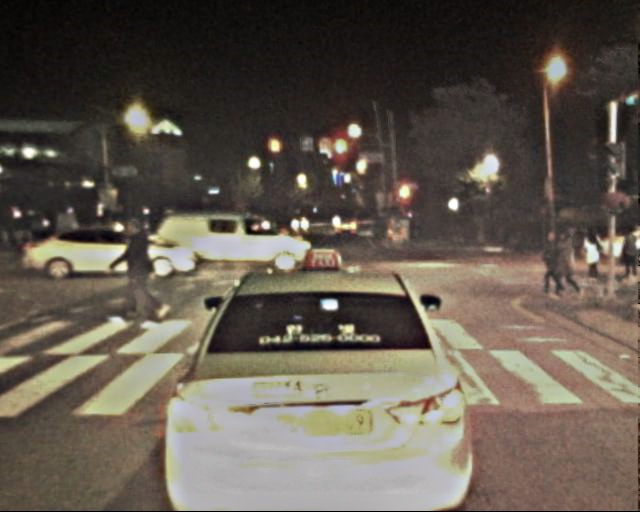person: (118, 211, 163, 320), (556, 226, 587, 301), (543, 234, 570, 300), (580, 227, 605, 287), (617, 226, 640, 281)
